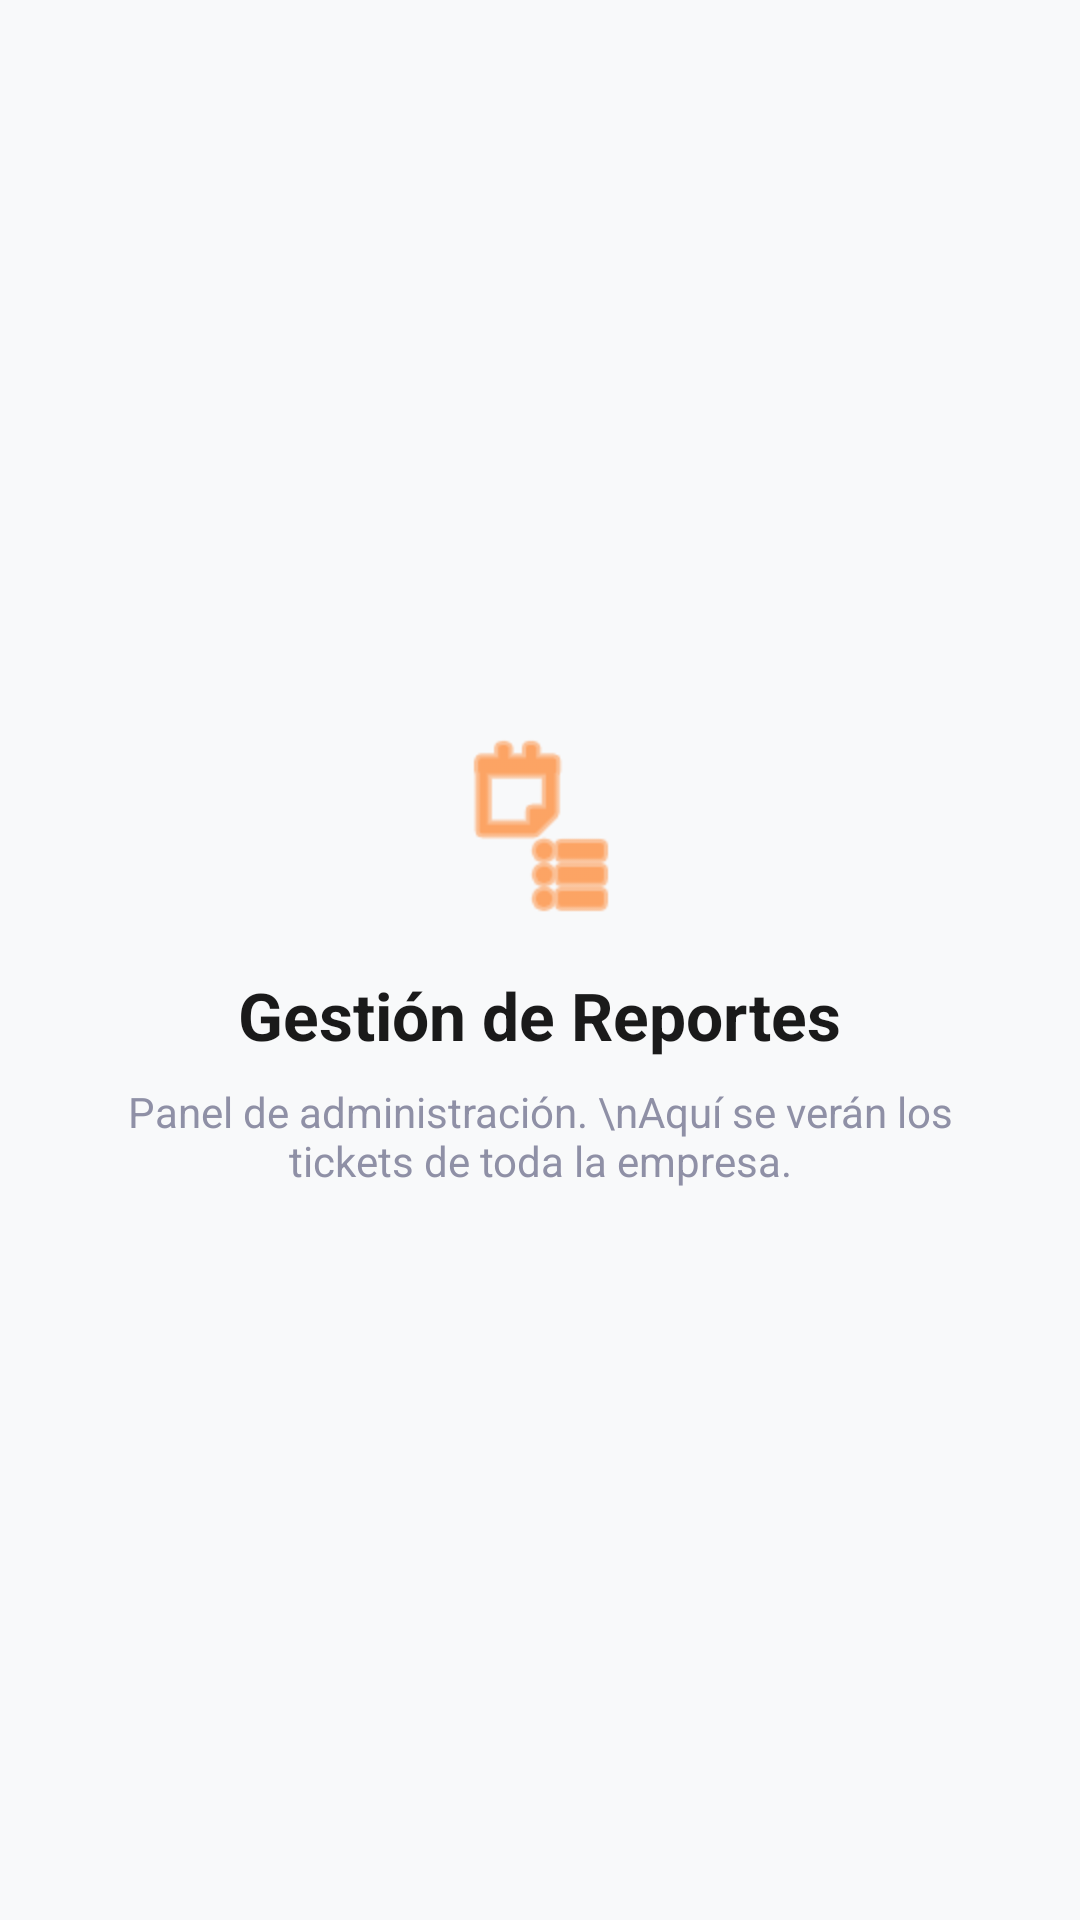

Icon click points for this 1080*1920 phone screenshot, format (x=x, y=y):
agenda: (x=541, y=825)
